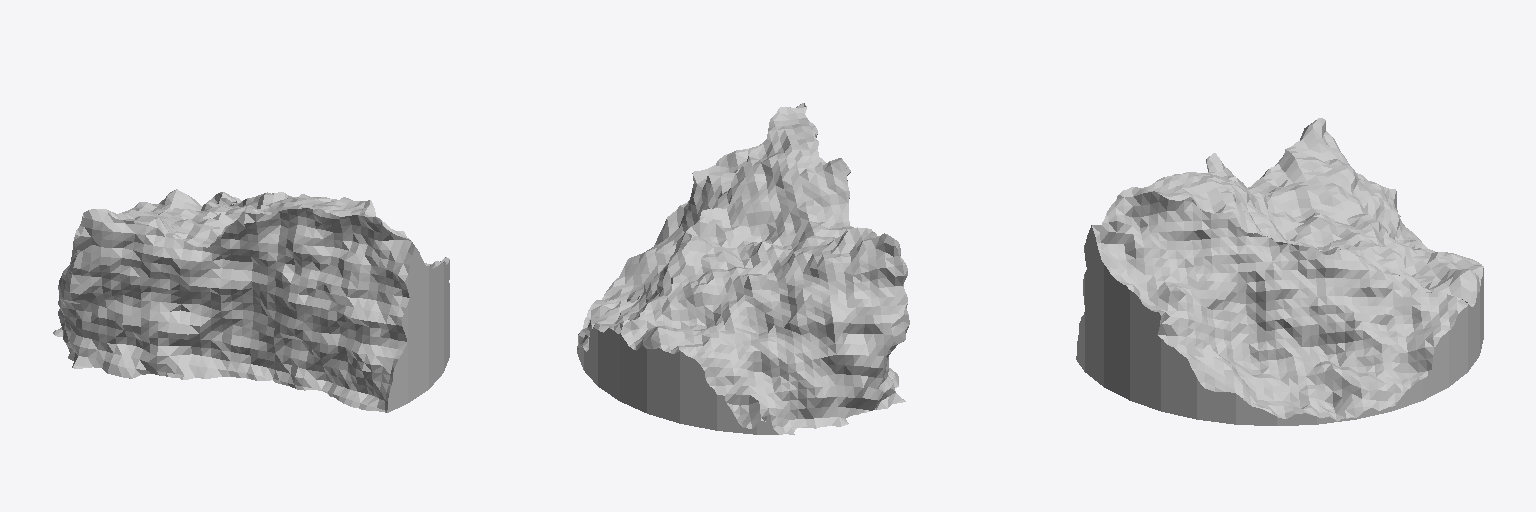
File: cylinder_6_seed_3_shard.003.obj
3 views of the same model, side by side, from view 1: azimuth 30°, elevation 25°; view 2: azimuth 150°, elevation 25°; view 3: azimuth 270°, elevation 25° (orthographic).
Visible parts, largest first — view 1: Cylinder_shard.003_Cylinder_shard.015; view 2: Cylinder_shard.003_Cylinder_shard.015; view 3: Cylinder_shard.003_Cylinder_shard.015.
Boxes of the visible parts, x1,y1,x2,y2 form: Cylinder_shard.003_Cylinder_shard.015: [53, 189, 449, 412]; Cylinder_shard.003_Cylinder_shard.015: [577, 103, 909, 434]; Cylinder_shard.003_Cylinder_shard.015: [1076, 118, 1483, 425].
Bounding box in the file's own units: 1.84 × 0.9565 × 1.97.